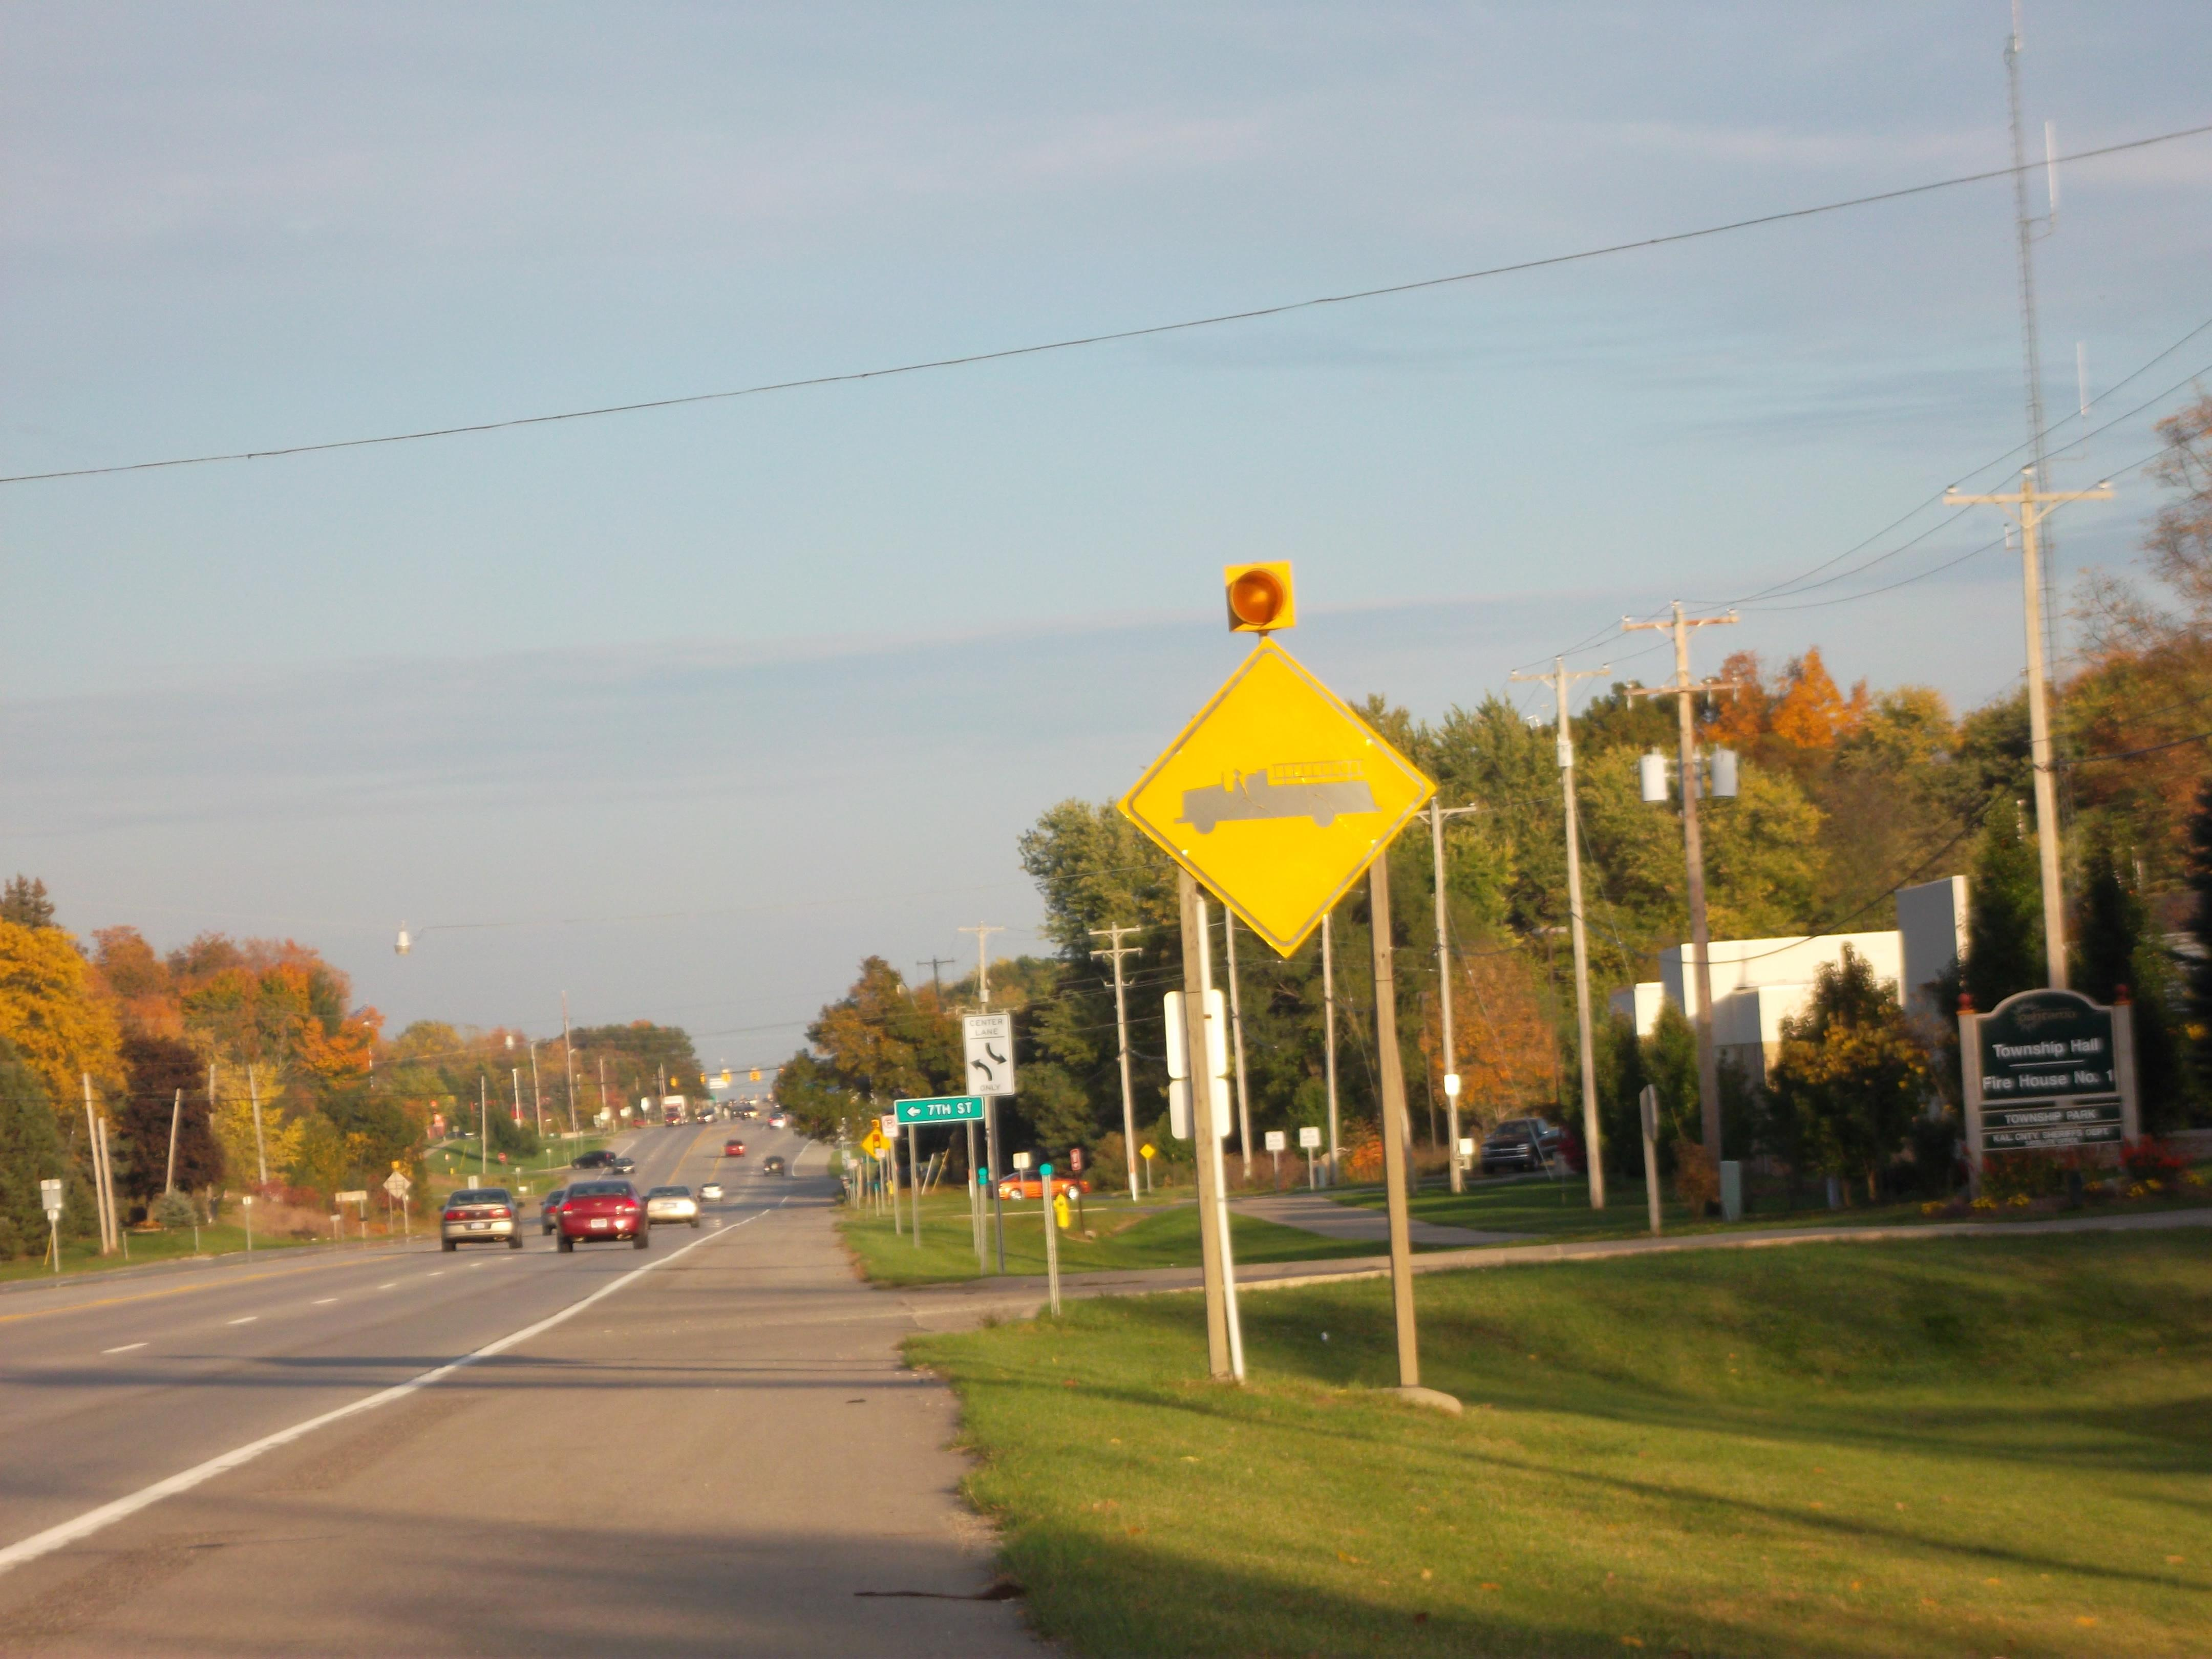regulatory: (963, 1012, 1015, 1098)
warning: (1123, 626, 1449, 974), (862, 1129, 894, 1164), (1137, 1141, 1157, 1161)
